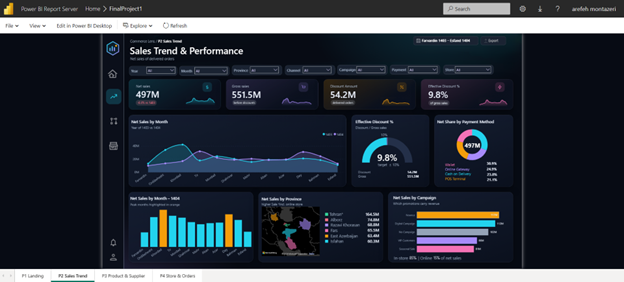

The dashboard page shown, as its layout file describes it:
{"tool":"powerbi","page":{"name":"P2 Sales Trend ","canvas":[1920,1080],"ordinal":1},"visuals":[{"type":"textbox","box":[122,0,280,56],"z":0},{"type":"textbox","box":[120,44,620,80],"z":1000},{"type":"textbox","box":[122,100,620,48],"z":2000},{"type":"shape","box":[1424,14,298,40],"z":3000},{"type":"shape","box":[1732,14,116,40],"z":4000},{"type":"image","box":[1434,24,26,20],"z":5000},{"type":"image","box":[1740,24,30,20],"z":6000},{"type":"shape","box":[121.4,148.6,220,45.7],"z":7000},{"type":"slicer","fields":{"Values":["Dim_Date.JalaliYear"]},"box":[191.8,144.1,150,48.3],"z":8000},{"type":"shape","box":[351.2,148.6,230,46],"z":9000},{"type":"slicer","fields":{"Values":["Dim_Date.JalaliMonthName"]},"box":[411.2,145.3,170,48.3],"z":10000},{"type":"shape","box":[593,146.2,230,46],"z":11000},{"type":"slicer","fields":{"Values":["Dim_Supplier.Province"]},"box":[665.9,142.6,150,48.3],"z":12000},{"type":"shape","box":[836.5,145.7,230,46],"z":13000},{"type":"slicer","fields":{"Values":["Dim_Store.ChannelType"]},"box":[908.5,141.7,150,48],"z":14000},{"type":"shape","box":[1075.4,143.2,230,46],"z":15000},{"type":"slicer","fields":{"Values":["Fact_OrderLines.Campaign"]},"box":[1153.7,139.9,150,48.3],"z":16000},{"type":"shape","box":[1316.6,144.5,230,45],"z":17000},{"type":"slicer","fields":{"Values":["Fact_OrderLines.PaymentMethod"]},"box":[1390.5,141.1,154,48],"z":18000},{"type":"shape","box":[1561.3,144.5,230,45],"z":19000},{"type":"slicer","fields":{"Values":["Dim_Store.StoreName"]},"box":[1604.5,141.1,184,48],"z":20000},{"type":"shape","box":[0,0,96,1080],"z":21000},{"type":"image","box":[0,28,96,80],"z":22000},{"type":"image","box":[22,160,50,50],"z":23000},{"type":"image","box":[26,492,48,48],"z":24000},{"type":"image","box":[30,940,40,40],"z":25000},{"type":"image","box":[30,1006,40,40],"z":26000},{"type":"image","box":[26,376,50,50],"z":27000},{"type":"image","box":[16,254,70,70],"z":28000},{"type":"shape","box":[74,0,48,1080],"z":29000},{"type":"card","fields":{"Values":["Fact_OrderLines.Net Sales"]},"box":[120,246.7,172.2,64.4],"z":30000},{"type":"shape","title":"fffffff","box":[151.7,305,96.7,26.7],"z":31000},{"type":"textbox","box":[149.2,226.7,90,38.3],"z":32000},{"type":"image","box":[453.8,224.5,52.5,43.8],"z":33000},{"type":"image","box":[381.7,287,135,55],"z":34000},{"type":"card","fields":{"Values":["Fact_OrderLines.Gross Sales"]},"box":[572,246,172,66],"z":35000},{"type":"shape","title":"fffffff","box":[594.5,305.5,110.9,25.5],"z":36000},{"type":"textbox","box":[588.6,226.3,90,37.5],"z":37000},{"type":"image","box":[894.9,223.8,52.5,43.8],"z":38000},{"type":"image","box":[822.8,286.3,135,55],"z":39000},{"type":"card","fields":{"Values":["Fact_OrderLines.Discount Amount"]},"box":[1014.3,245.7,172.9,65.7],"z":40000},{"type":"shape","title":"fffffff","box":[1044.5,305.5,112.7,25.5],"z":41000},{"type":"textbox","box":[1038.6,225.7,150,38.6],"z":42000},{"type":"image","box":[1344.7,223.8,52.5,43.8],"z":43000},{"type":"image","box":[1272.6,286.3,135,55],"z":44000},{"type":"card","fields":{"Values":["Fact_OrderLines.Effective Discount %"]},"box":[1475.7,245.7,122.9,65.7],"z":45000},{"type":"shape","title":"fffffff","box":[1491.4,305.7,97.1,25.7],"z":46000},{"type":"textbox","box":[1487.1,225.7,161.4,38.6],"z":47000},{"type":"image","box":[1793.1,223.8,52.5,43.8],"z":48000},{"type":"image","box":[1721,286.3,135,55],"z":49000},{"type":"lineChart","title":"Net Sales by Month","fields":{"Category":["Dim_Date.JalaliMonthName"],"Series":["Dim_Date.JalaliYear"],"Y":["Fact_OrderLines.Net Sales"]},"box":[128,392,986,322],"z":50000},{"type":"gauge","fields":{"Y":["Fact_OrderLines.Effective Discount %"]},"box":[1154,392,300,206],"z":51000},{"type":"textbox","box":[1166,620,84,58],"z":52000},{"type":"textbox","box":[1256,586,120,34],"z":53000},{"type":"donutChart","title":"Net Share by Payment Method","fields":{"Category":["Fact_OrderLines.PaymentMethod"],"Y":["Fact_OrderLines.Net Sales Share %"]},"box":[1528,392,330,212],"z":54000},{"type":"textbox","box":[1564,586,274,114],"z":55000},{"type":"card","fields":{"Values":["Fact_OrderLines.Discount Amount"]},"box":[1388,620,60,38],"z":56000},{"type":"card","fields":{"Values":["Fact_OrderLines.Gross Sales"]},"box":[1386,640,70,36],"z":57000},{"type":"card","fields":{"Values":["Fact_OrderLines.Net Sales"]},"box":[1634,474,118,80],"z":58000},{"type":"card","fields":{"Values":["Fact_OrderLines.% Cash on Delivery"]},"box":[1753.3,629.8,60,37.8],"z":59000},{"type":"card","fields":{"Values":["Fact_OrderLines.% Online Gateway"]},"box":[1752,604,60,38],"z":60000},{"type":"card","fields":{"Values":["Fact_OrderLines.% POS Terminal"]},"box":[1753.3,654.2,60,37.8],"z":61000},{"type":"card","fields":{"Values":["Fact_OrderLines.% Wallet"]},"box":[1752,580,60,38],"z":62000},{"type":"clusteredColumnChart","title":"Net Sales by Month – 1404","fields":{"Category":["Dim_Date.JalaliMonthName"],"Y":["Fact_OrderLines.Net Sales"]},"box":[122,744,582,320],"z":63000},{"type":"filledMap","title":"Net Sales by Province ","fields":{"Category":["Dim_Store.Province"]},"box":[724,740,276,286],"z":64000},{"type":"textbox","box":[1014,810,258,196],"z":65000},{"type":"card","fields":{"Values":["Dim_Store.% Tehran"]},"box":[1186.2,815,98.8,30],"z":66000},{"type":"card","fields":{"Values":["Dim_Store.Alborz_Sales"]},"box":[1190,840,98.8,30],"z":67000},{"type":"card","fields":{"Values":["Dim_Store.Razavi_Sales"]},"box":[1190,865,98.8,30],"z":68000},{"type":"card","fields":{"Values":["Dim_Store.Fars_Sales"]},"box":[1190,888.8,98.8,30],"z":69000},{"type":"card","fields":{"Values":["Dim_Store.EastAzerbaijan_Sales"]},"box":[1191.2,913.8,98.8,30],"z":70000},{"type":"card","fields":{"Values":["Dim_Store.Isfahan_Sales"]},"box":[1191.2,940,98.8,30],"z":71000},{"type":"clusteredBarChart","fields":{"Category":["Fact_OrderLines.Campaign"],"Y":["Fact_OrderLines.Net Sales"]},"box":[1326,740,530,286],"z":72000},{"type":"textbox","box":[1330,1011.9,510,40],"z":73000},{"type":"card","fields":{"Values":["Dim_Store.In-store Sales %"]},"box":[1390,1012,62,40],"z":75000},{"type":"card","fields":{"Values":["Dim_Store.Online_Sales %"]},"box":[1480,1012,98,40],"z":76000}]}

Visuals, with their boxes on the page's 1920x1080 design canvas (x1, y1, x2, y2). These are canvas units, not pixel positions in the 624x282 screenshot, which may show the page scaled, cropped or inside an application window:
textbox: (122,0,402,56)
textbox: (120,44,740,124)
textbox: (122,100,742,148)
shape: (1424,14,1722,54)
shape: (1732,14,1848,54)
image: (1434,24,1460,44)
image: (1740,24,1770,44)
shape: (121,149,341,194)
slicer - Dim_Date.JalaliYear: (192,144,342,192)
shape: (351,149,581,195)
slicer - Dim_Date.JalaliMonthName: (411,145,581,194)
shape: (593,146,823,192)
slicer - Dim_Supplier.Province: (666,143,816,191)
shape: (836,146,1066,192)
slicer - Dim_Store.ChannelType: (908,142,1058,190)
shape: (1075,143,1305,189)
slicer - Fact_OrderLines.Campaign: (1154,140,1304,188)
shape: (1317,144,1547,190)
slicer - Fact_OrderLines.PaymentMethod: (1390,141,1544,189)
shape: (1561,144,1791,190)
slicer - Dim_Store.StoreName: (1604,141,1788,189)
shape: (0,0,96,1080)
image: (0,28,96,108)
image: (22,160,72,210)
image: (26,492,74,540)
image: (30,940,70,980)
image: (30,1006,70,1046)
image: (26,376,76,426)
image: (16,254,86,324)
shape: (74,0,122,1080)
card - Fact_OrderLines.Net Sales: (120,247,292,311)
"fffffff" shape: (152,305,248,332)
textbox: (149,227,239,265)
image: (454,224,506,268)
image: (382,287,517,342)
card - Fact_OrderLines.Gross Sales: (572,246,744,312)
"fffffff" shape: (594,306,705,331)
textbox: (589,226,679,264)
image: (895,224,947,268)
image: (823,286,958,341)
card - Fact_OrderLines.Discount Amount: (1014,246,1187,311)
"fffffff" shape: (1044,306,1157,331)
textbox: (1039,226,1189,264)
image: (1345,224,1397,268)
image: (1273,286,1408,341)
card - Fact_OrderLines.Effective Discount %: (1476,246,1599,311)
"fffffff" shape: (1491,306,1588,331)
textbox: (1487,226,1648,264)
image: (1793,224,1846,268)
image: (1721,286,1856,341)
"Net Sales by Month" lineChart: (128,392,1114,714)
gauge - Fact_OrderLines.Effective Discount %: (1154,392,1454,598)
textbox: (1166,620,1250,678)
textbox: (1256,586,1376,620)
"Net Share by Payment Method" donutChart: (1528,392,1858,604)
textbox: (1564,586,1838,700)
card - Fact_OrderLines.Discount Amount: (1388,620,1448,658)
card - Fact_OrderLines.Gross Sales: (1386,640,1456,676)
card - Fact_OrderLines.Net Sales: (1634,474,1752,554)
card - Fact_OrderLines.% Cash on Delivery: (1753,630,1813,668)
card - Fact_OrderLines.% Online Gateway: (1752,604,1812,642)
card - Fact_OrderLines.% POS Terminal: (1753,654,1813,692)
card - Fact_OrderLines.% Wallet: (1752,580,1812,618)
"Net Sales by Month – 1404" clusteredColumnChart: (122,744,704,1064)
"Net Sales by Province " filledMap: (724,740,1000,1026)
textbox: (1014,810,1272,1006)
card - Dim_Store.% Tehran: (1186,815,1285,845)
card - Dim_Store.Alborz_Sales: (1190,840,1289,870)
card - Dim_Store.Razavi_Sales: (1190,865,1289,895)
card - Dim_Store.Fars_Sales: (1190,889,1289,919)
card - Dim_Store.EastAzerbaijan_Sales: (1191,914,1290,944)
card - Dim_Store.Isfahan_Sales: (1191,940,1290,970)
clusteredBarChart - Fact_OrderLines.Campaign x Fact_OrderLines.Net Sales: (1326,740,1856,1026)
textbox: (1330,1012,1840,1052)
card - Dim_Store.In-store Sales %: (1390,1012,1452,1052)
card - Dim_Store.Online_Sales %: (1480,1012,1578,1052)
